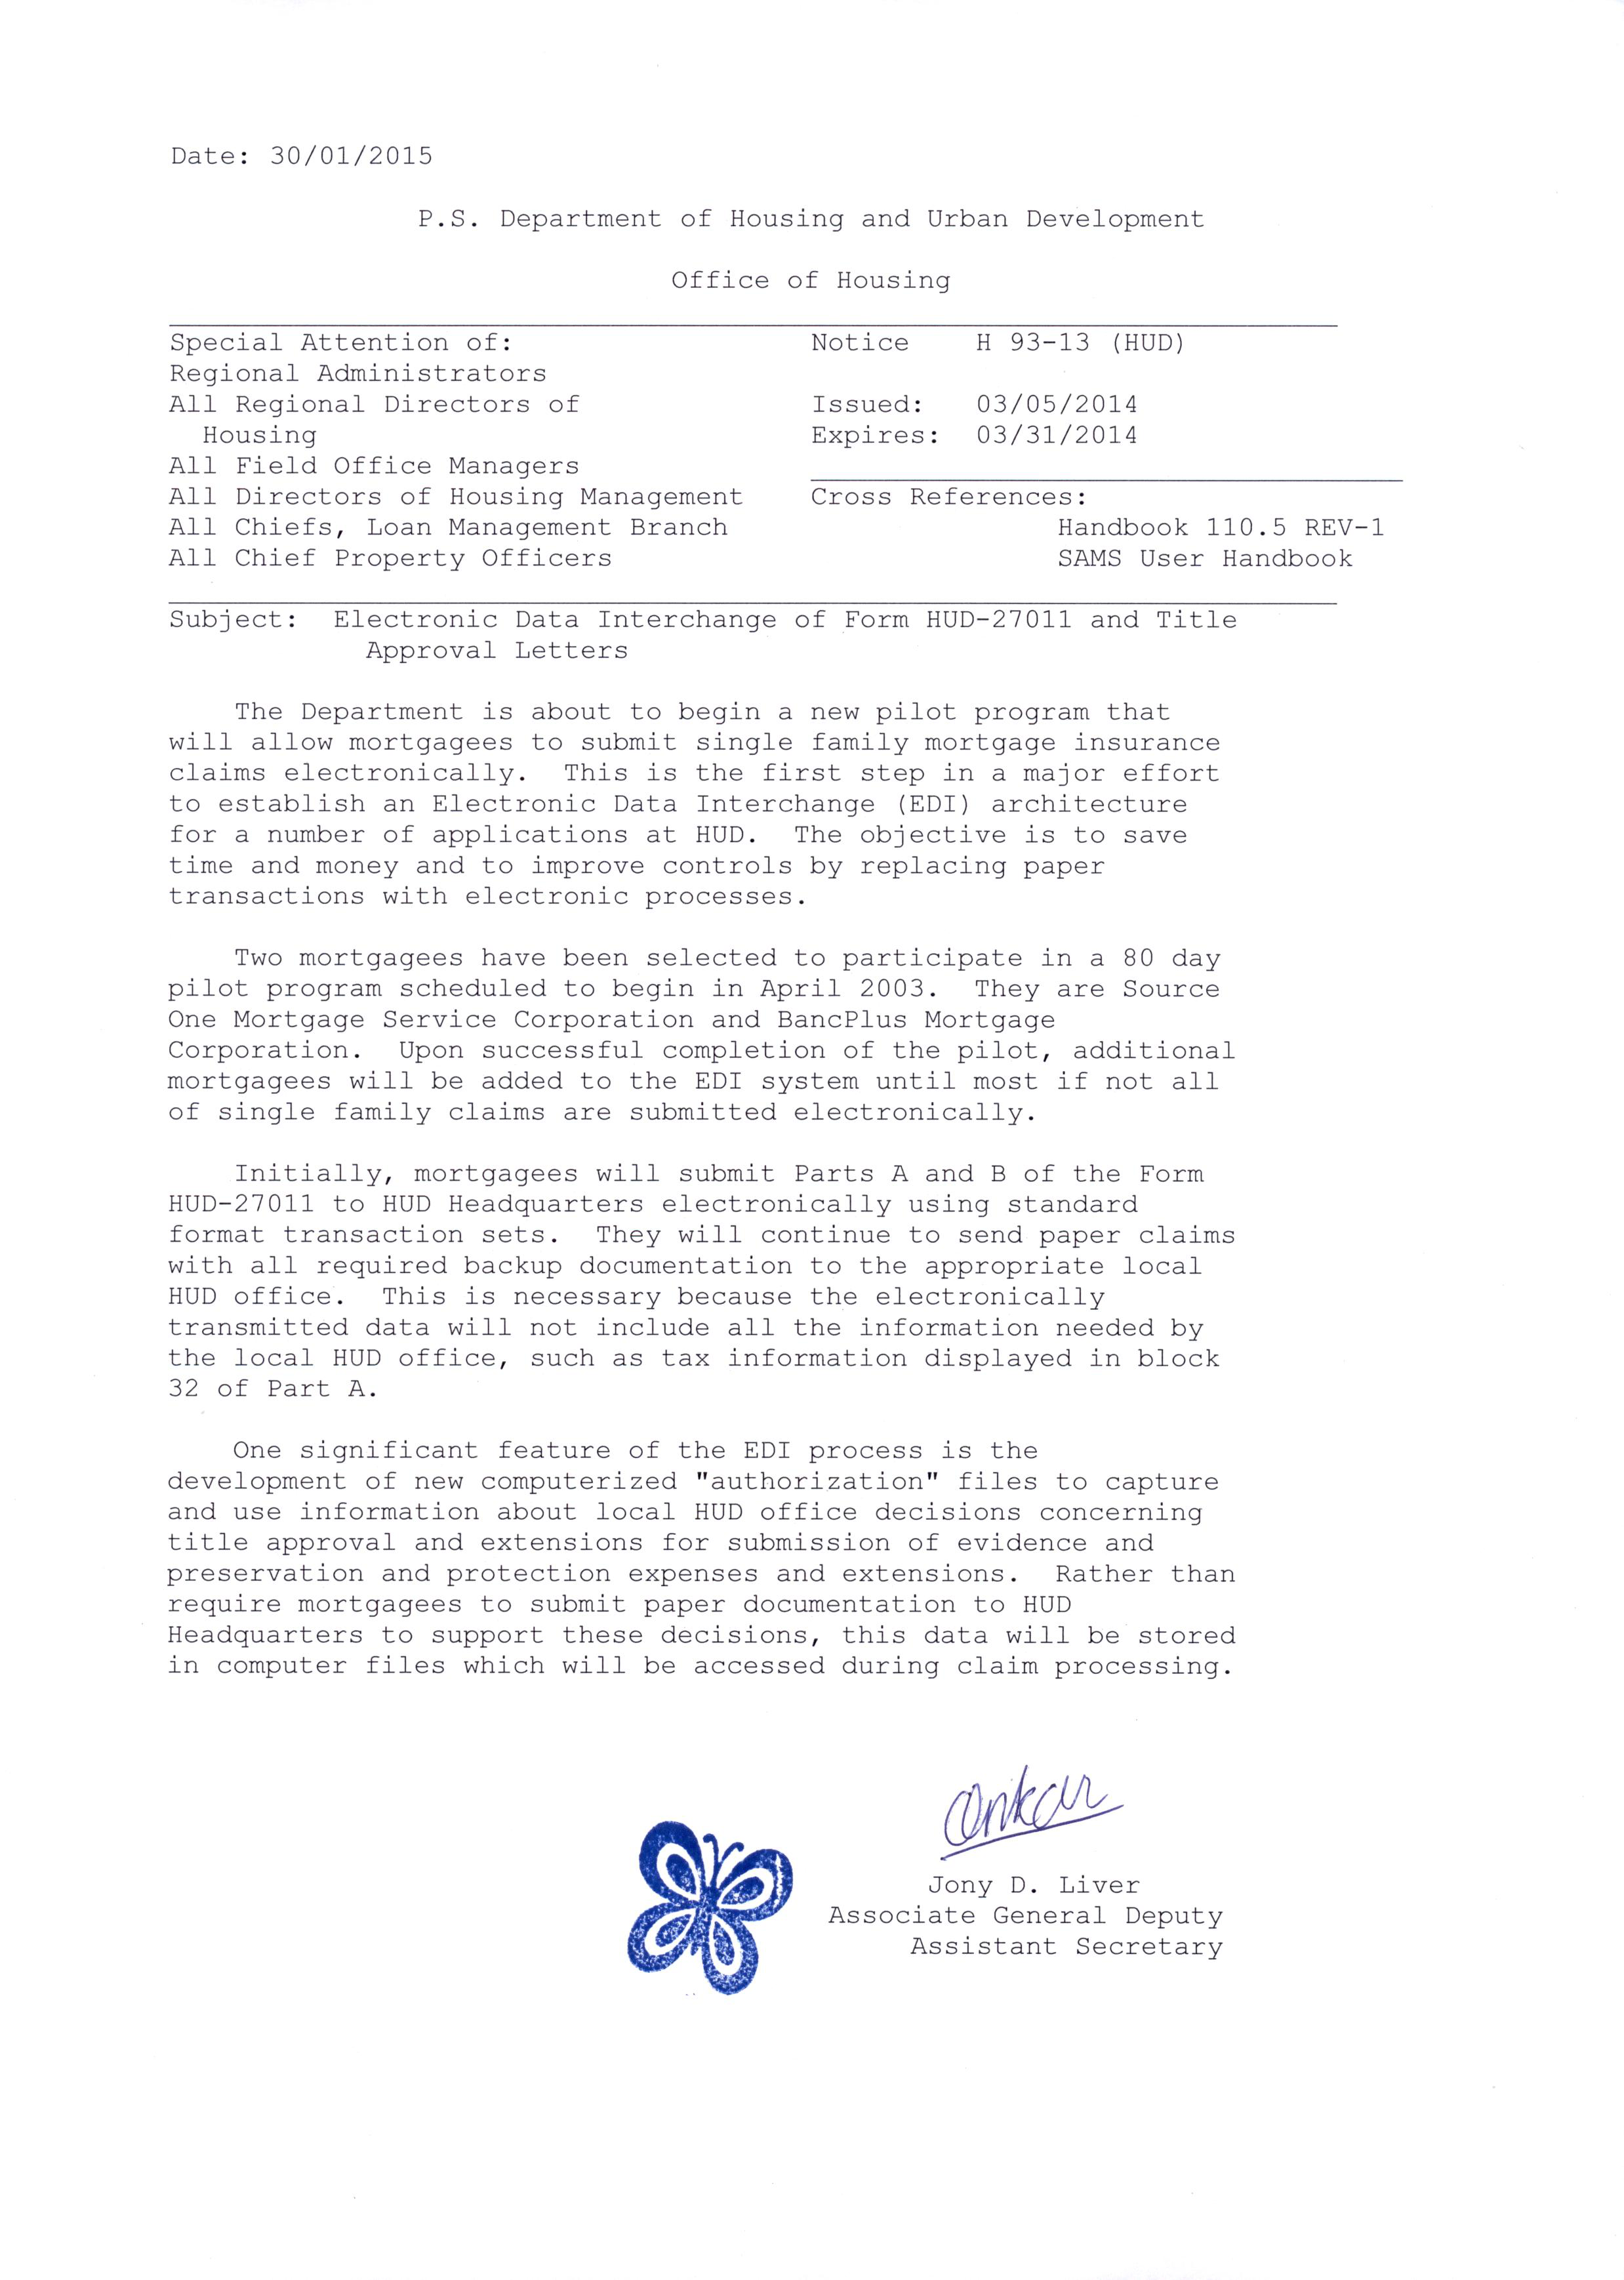Signature: (935, 1758, 1128, 1860)
